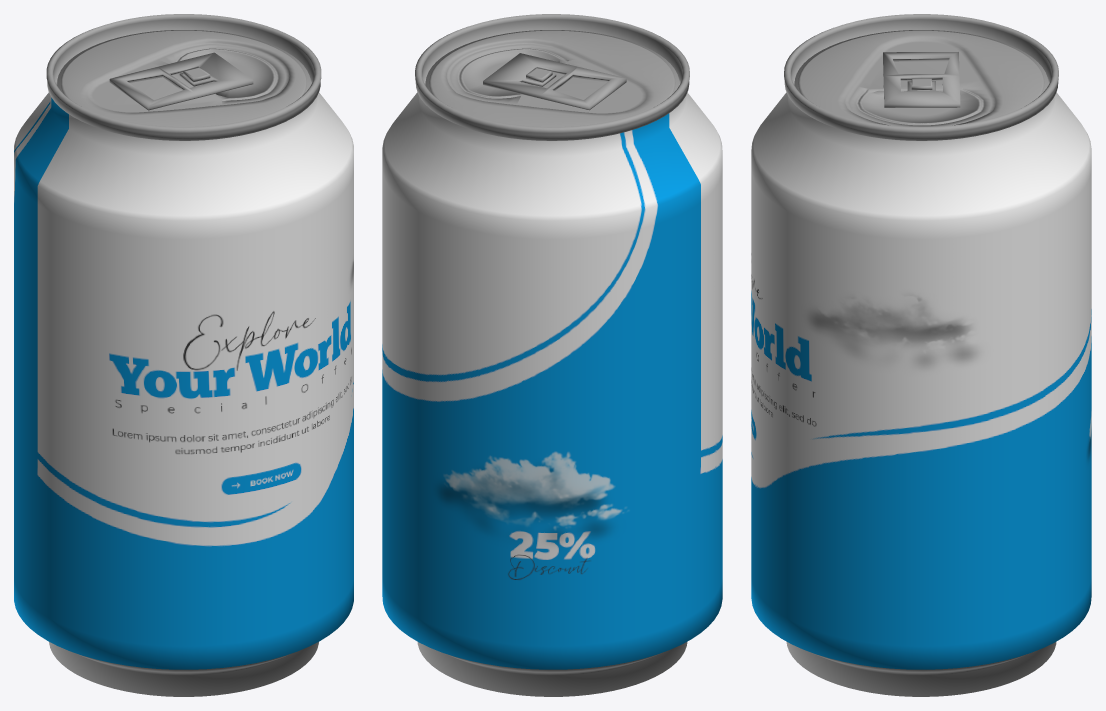
The model's file is cola1.glb.
3 views of the same model, side by side, from view 1: azimuth 30°, elevation 25°; view 2: azimuth 150°, elevation 25°; view 3: azimuth 270°, elevation 25° (orthographic).
Visible parts, largest first — view 1: can; view 2: can; view 3: can.
Part boxes in pixels (x1,y1,x2,y2): can: [14, 14, 353, 696]; can: [382, 14, 722, 696]; can: [751, 14, 1091, 696].
Bounding box in the file's own units: 1.82 × 3.36 × 1.82.
Materials: 2 (1 with a texture image).
